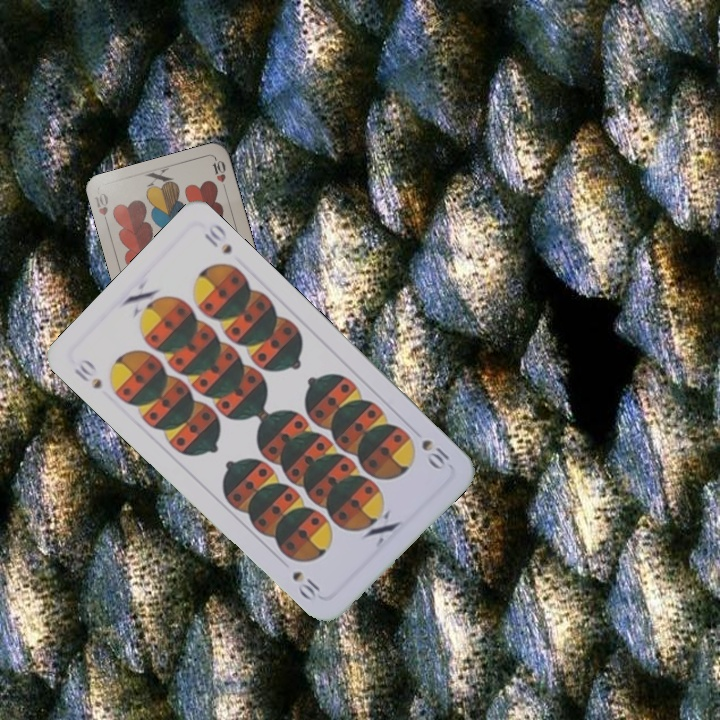H10: (91, 189, 111, 229)
S10: (417, 435, 452, 474), (70, 354, 105, 392)
